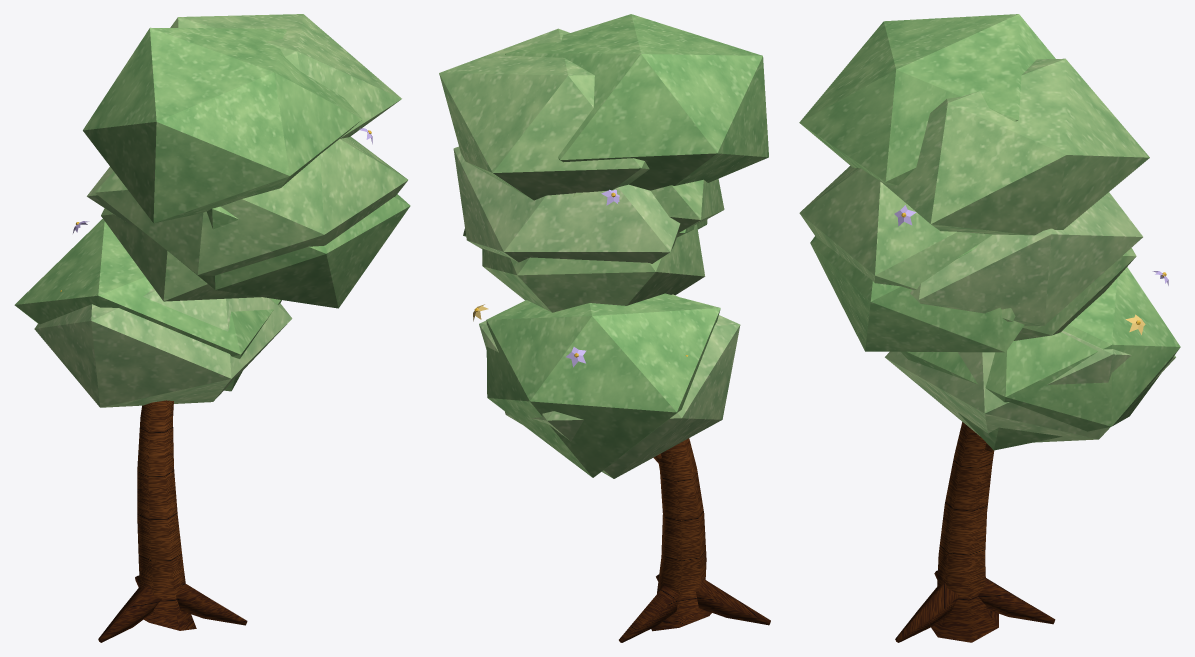
File: tree_sky_c.glb
The picture shows the model from 3 angles, left to right: view 1: azimuth 30°, elevation 25°; view 2: azimuth 150°, elevation 25°; view 3: azimuth 270°, elevation 25°; orthographic projection. The views are drawn at different scales.
Visible parts, largest first — view 1: tree_sky_c; view 2: tree_sky_c; view 3: tree_sky_c.
Boxes of the visible parts, x1,y1,x2,y2 form: tree_sky_c: (14, 14, 410, 642); tree_sky_c: (439, 14, 770, 642); tree_sky_c: (799, 14, 1180, 642).
Bounding box in the file's own units: 3.95 × 7.27 × 4.05.
3 materials, 2 textured.
